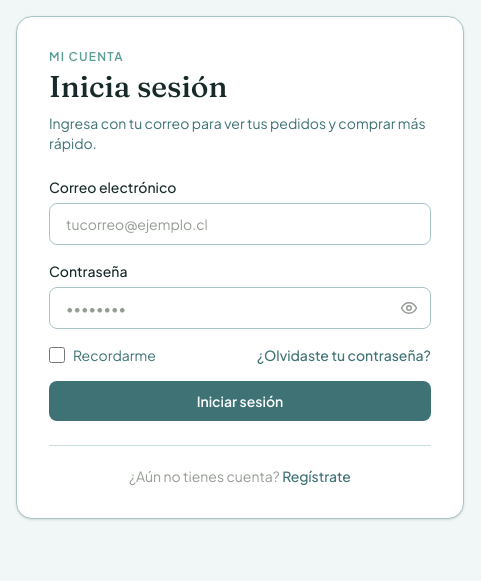
Test case: auth form behavior › shows validation errors when the login form is incomplete
Click the button "Iniciar sesión" at (240, 401), box [49, 381, 431, 421]
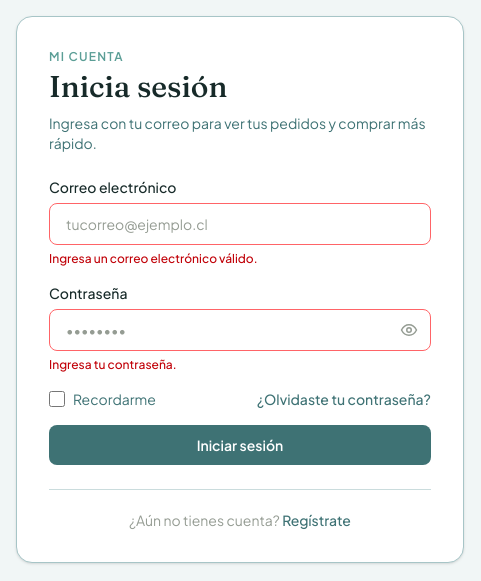
Now the text "Ingresa un correo electrónico válido." is shown, box [49, 251, 258, 266]
Now the text "Ingresa tu contraseña." is shown, box [49, 357, 177, 372]
